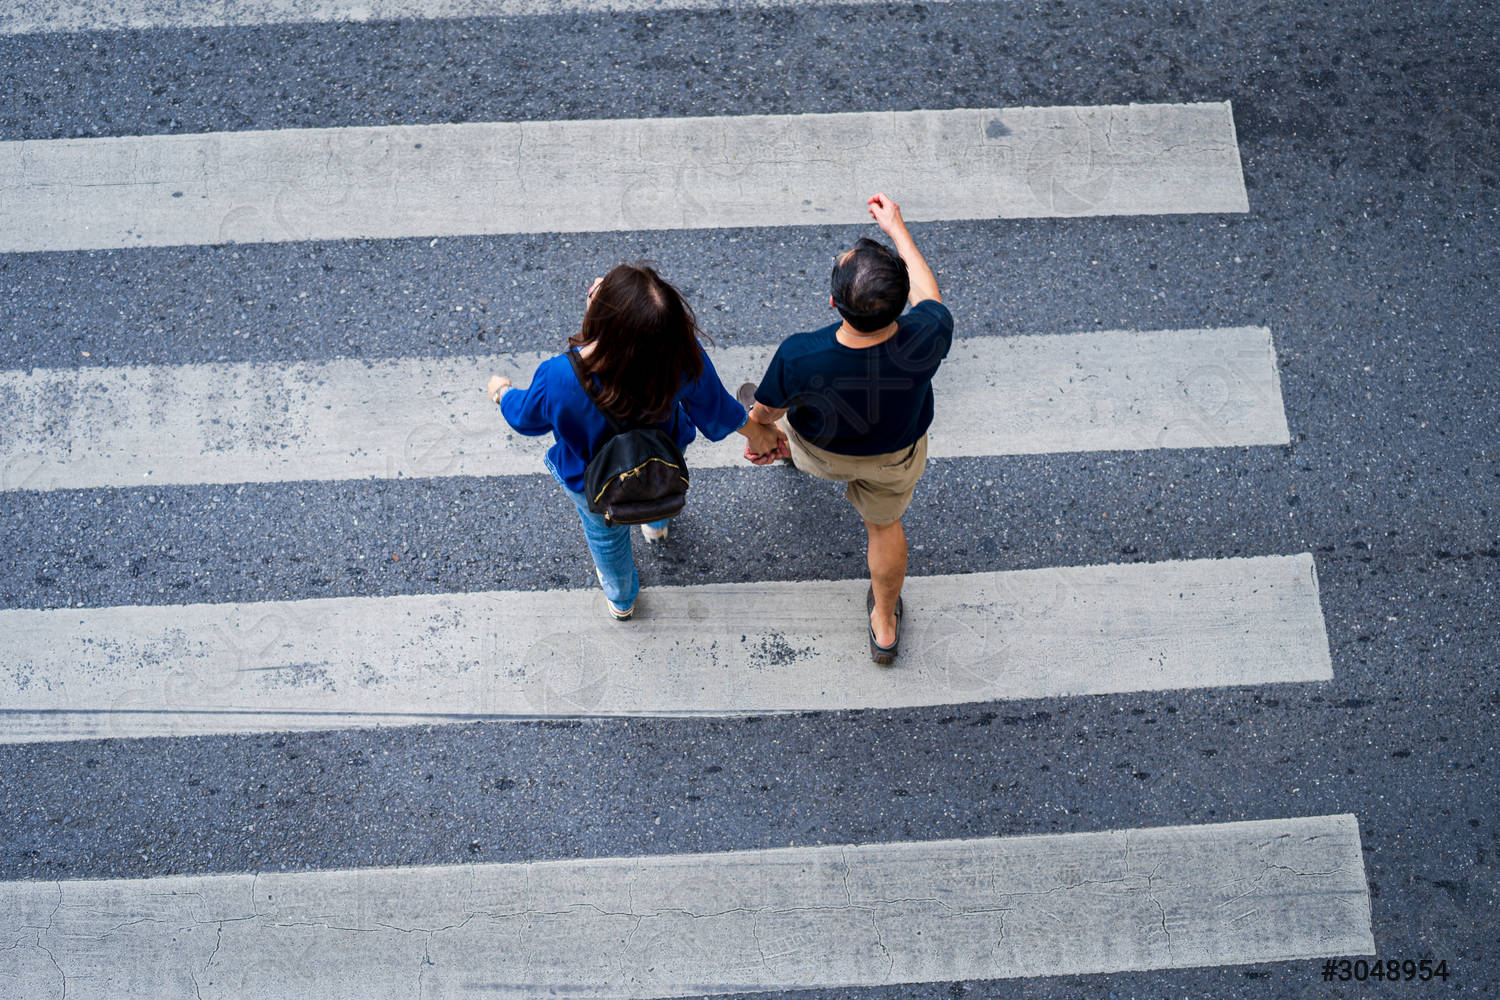person: (493, 264, 770, 622), (751, 192, 955, 662)
